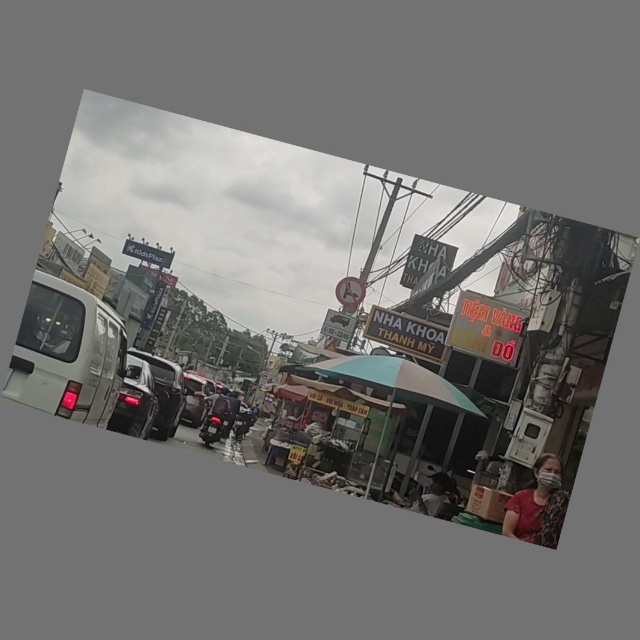P.139: (333, 274, 368, 310)
S.505a*Xe tai: (320, 309, 357, 344)
